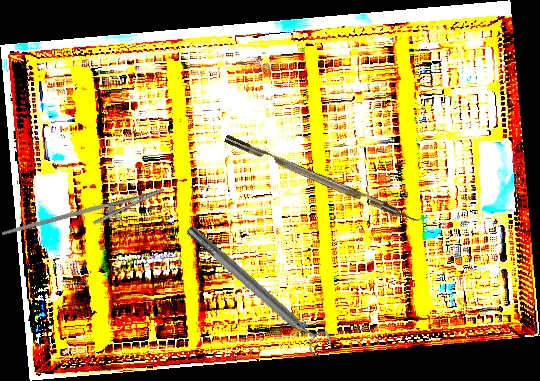Chopper: (223, 124, 430, 230)
Fixation Ring: (179, 216, 337, 362)
Needle Holder: (1, 169, 170, 266)
